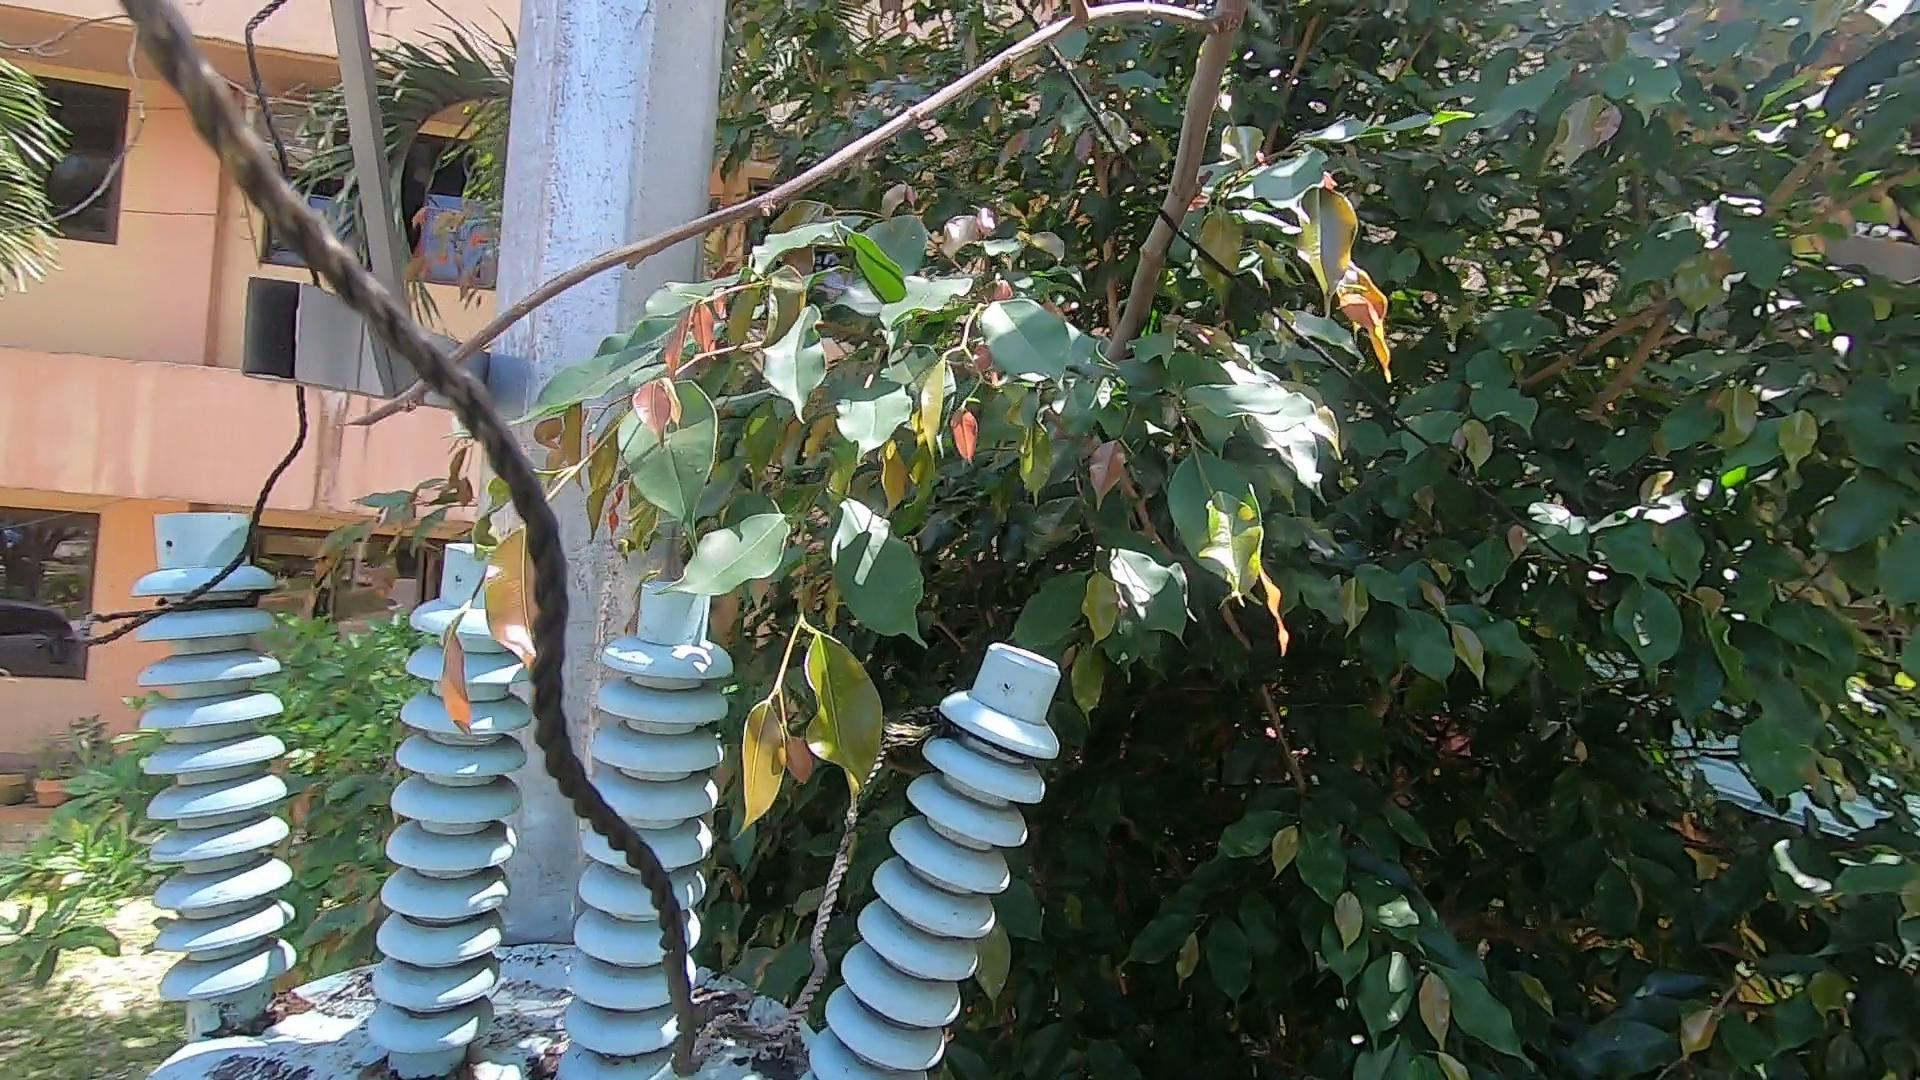leaf: (216, 981, 313, 1033), (514, 1039, 563, 1080), (344, 1052, 406, 1077)
tree branch: (326, 1, 1258, 463)
